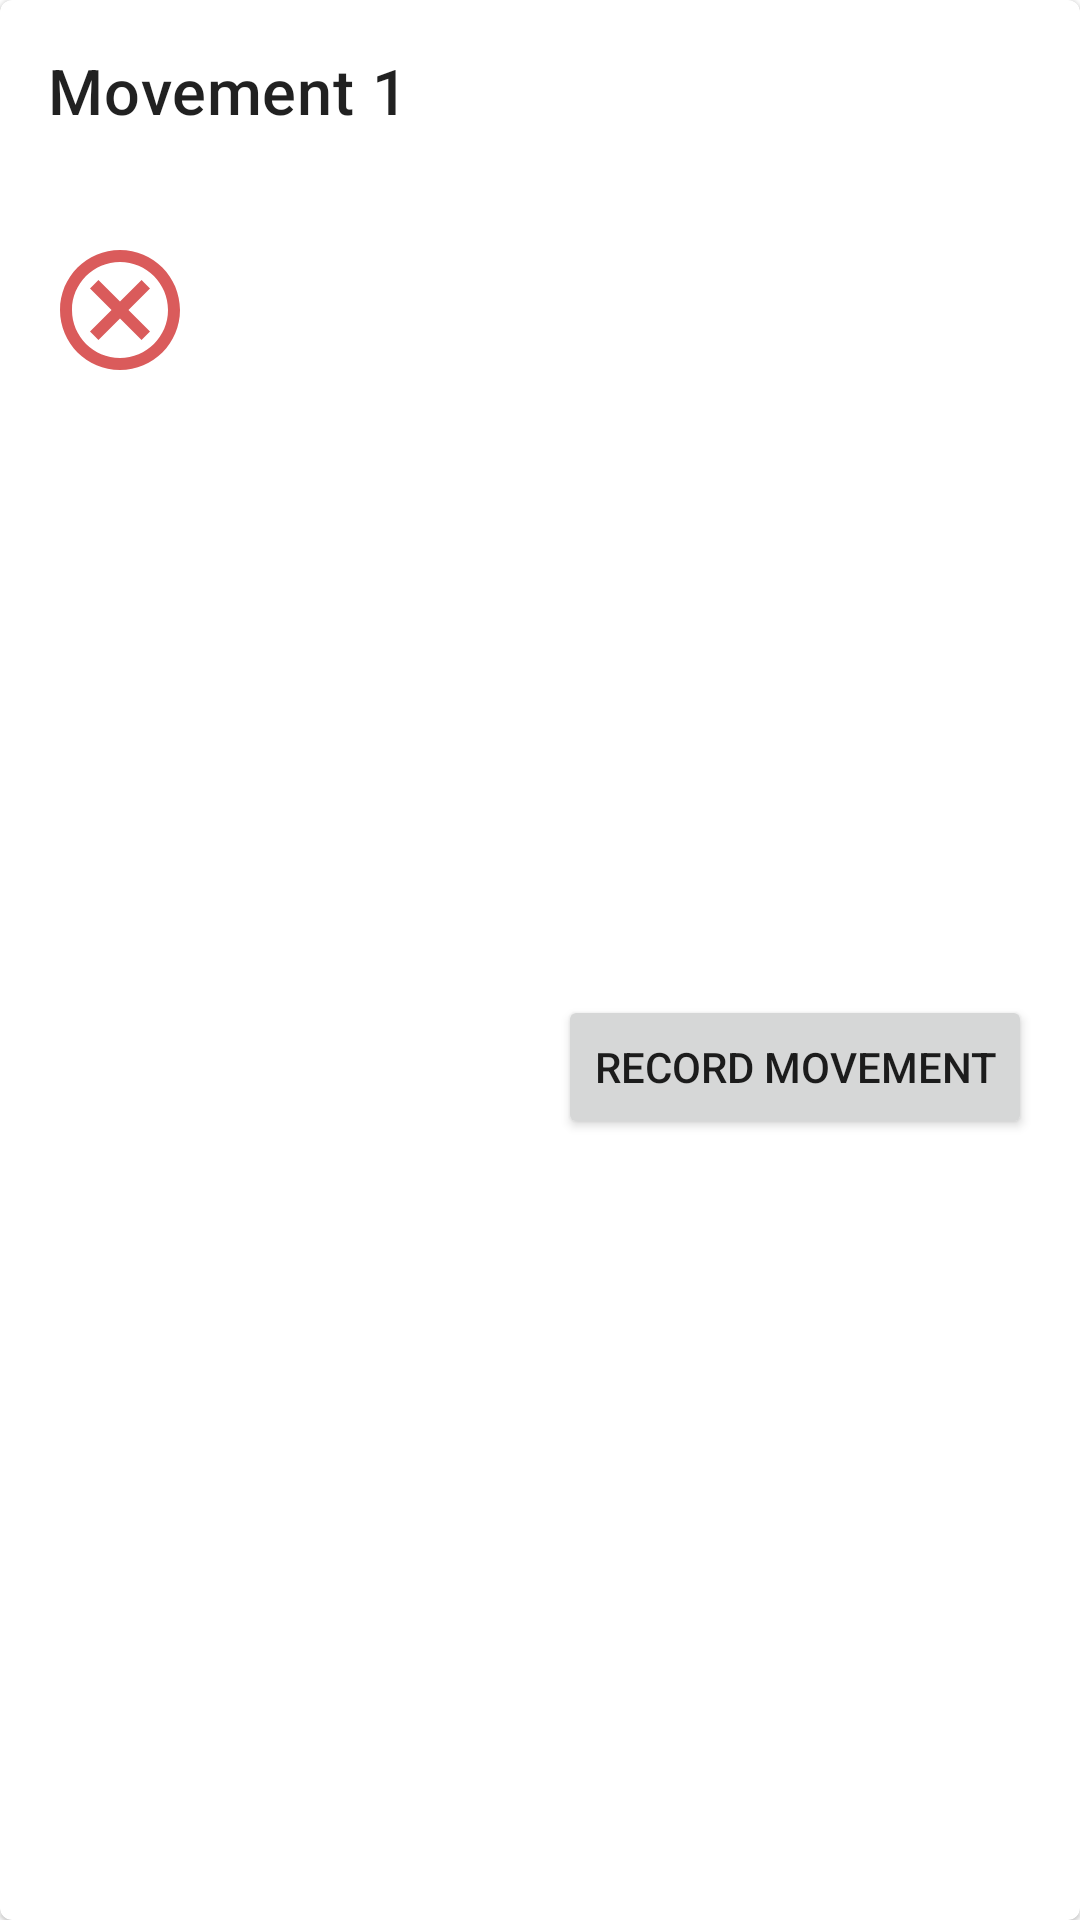

Icons on this 1080x1920 Android screen, each with the point to tap as point (x, y):
cancel: point (120, 310)
